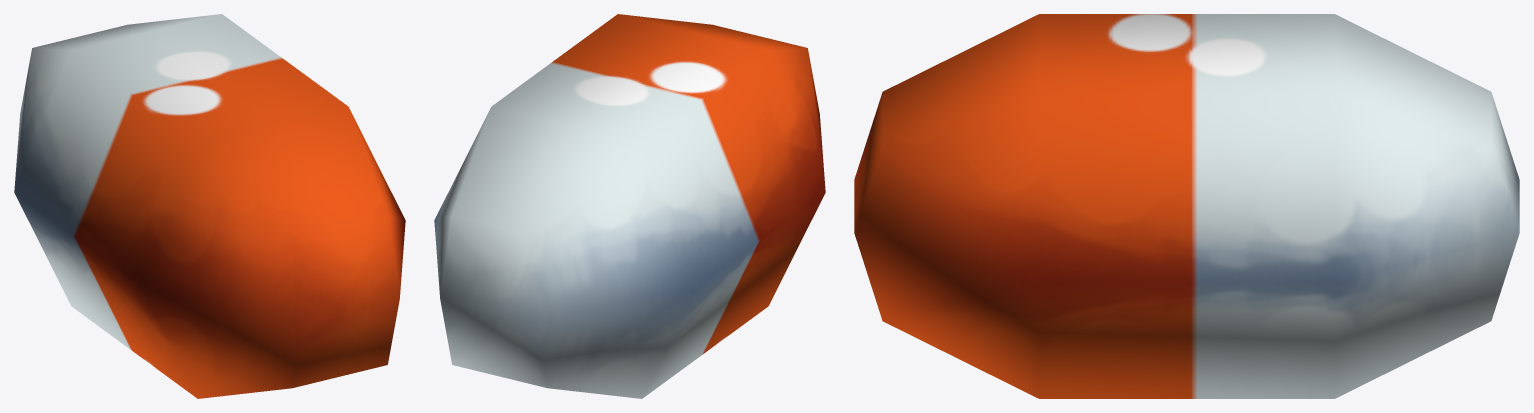
File: buoy.fbx
The picture shows the model from 3 angles, left to right: view 1: azimuth 30°, elevation 25°; view 2: azimuth 150°, elevation 25°; view 3: azimuth 270°, elevation 25°; orthographic projection. The views are drawn at different scales.
Visible parts, largest first — view 1: pCube12; view 2: pCube12; view 3: pCube12.
Boxes of the visible parts, x1,y1,x2,y2 form: pCube12: [14, 14, 405, 398]; pCube12: [434, 14, 825, 398]; pCube12: [854, 14, 1519, 398].
Size of the model in its own units: 0.4479 by 0.413 by 0.8324.
